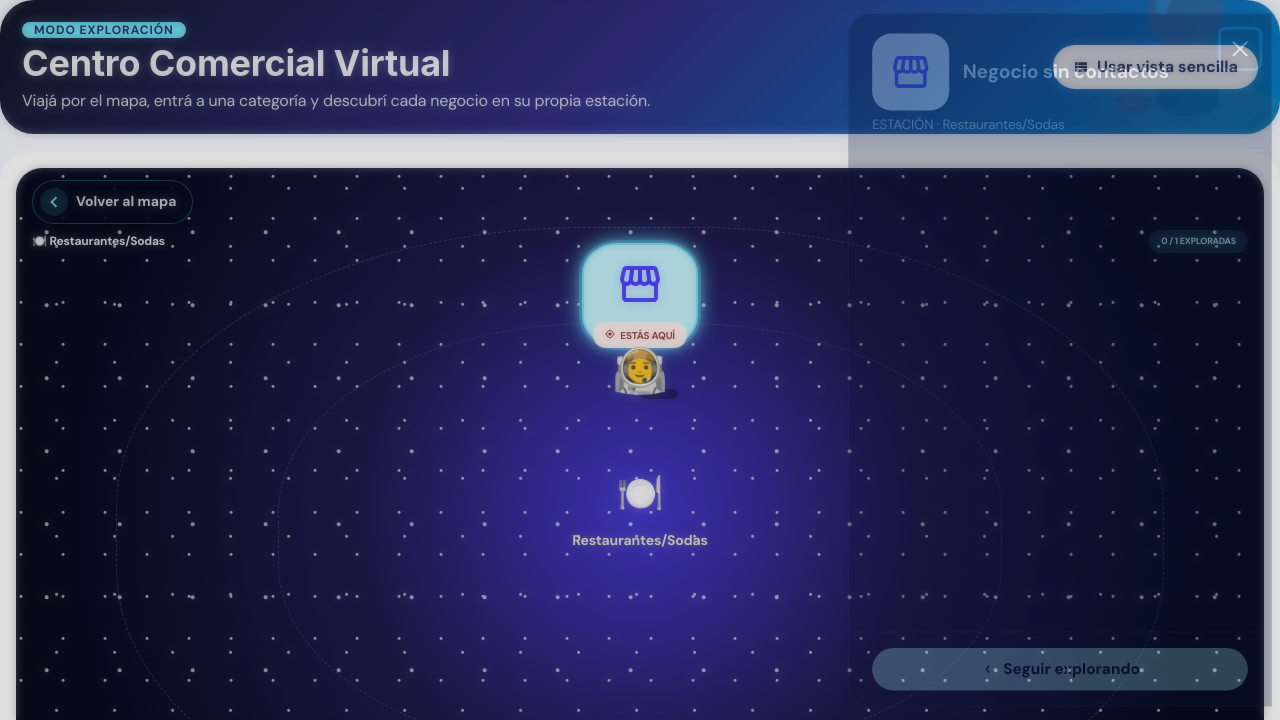
Test: VirtualMall flight navigation › opens a linked business without inventing unavailable contacts, location or video
Expected: the heading "Negocio sin contactos" is shown, left=872, top=34, right=1169, bottom=111
Click the button named "Cerrar".
click(1240, 49)  # box left=1221, top=30, right=1259, bottom=68
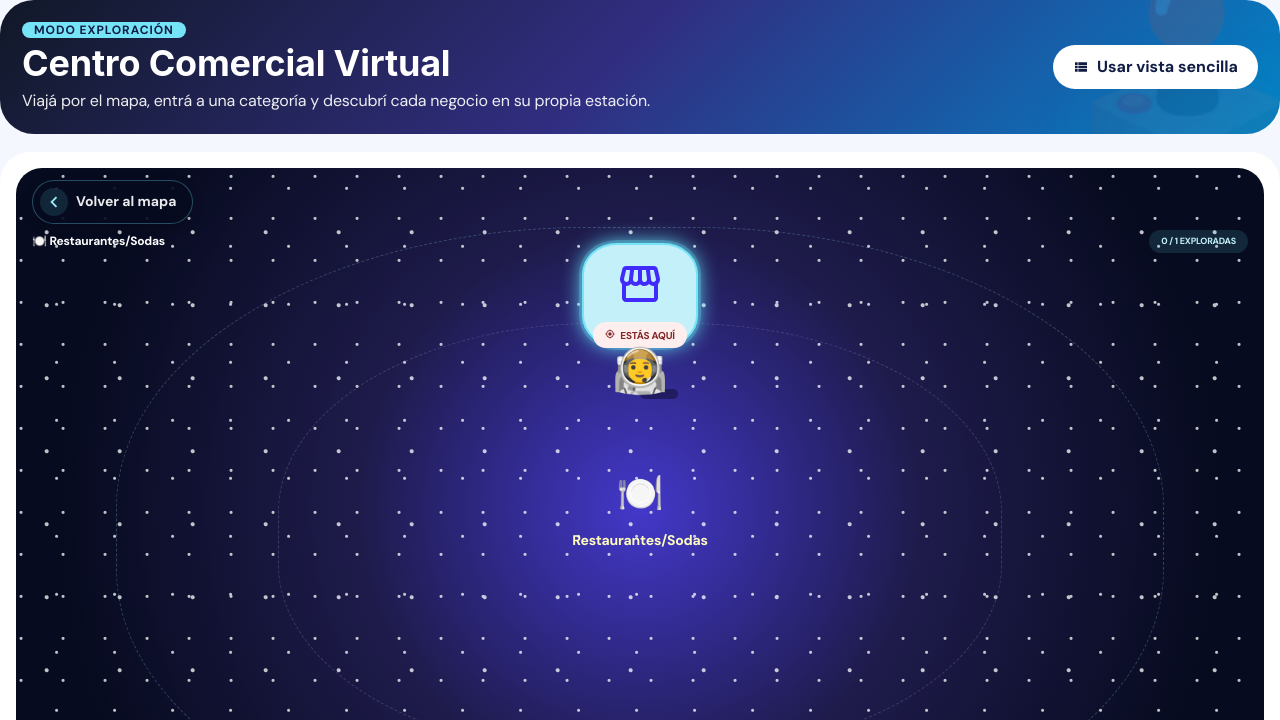
Expected: the button with aria-label "Abrir ficha de Negocio sin contactos" is shown, left=582, top=243, right=698, bottom=347
Expected: the dialog is gone
